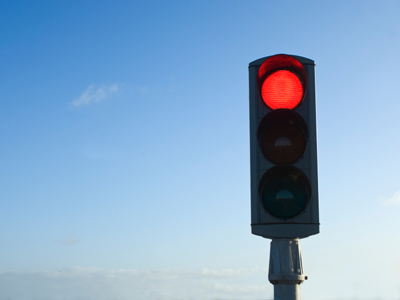trafficlight_red: (252, 54, 317, 229)
